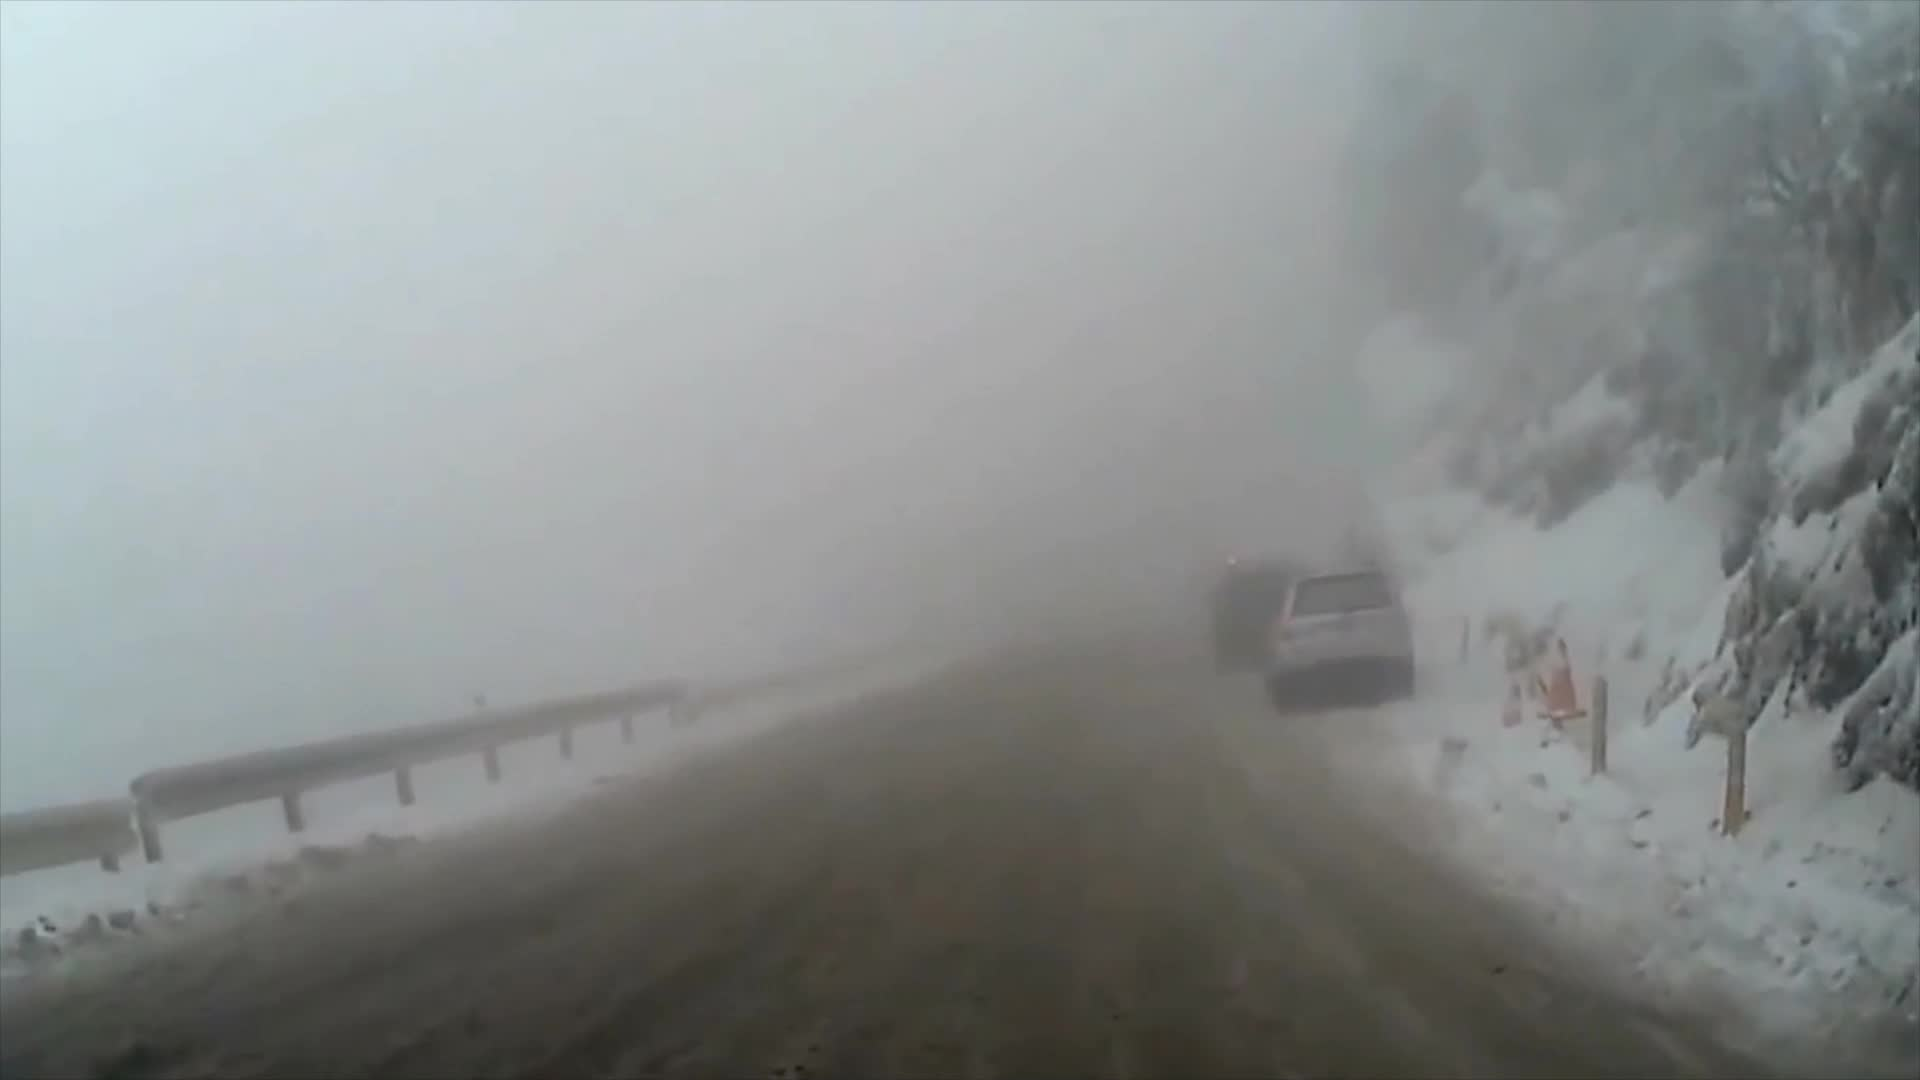vehicle: (1263, 566, 1415, 709), (1204, 555, 1320, 680)
